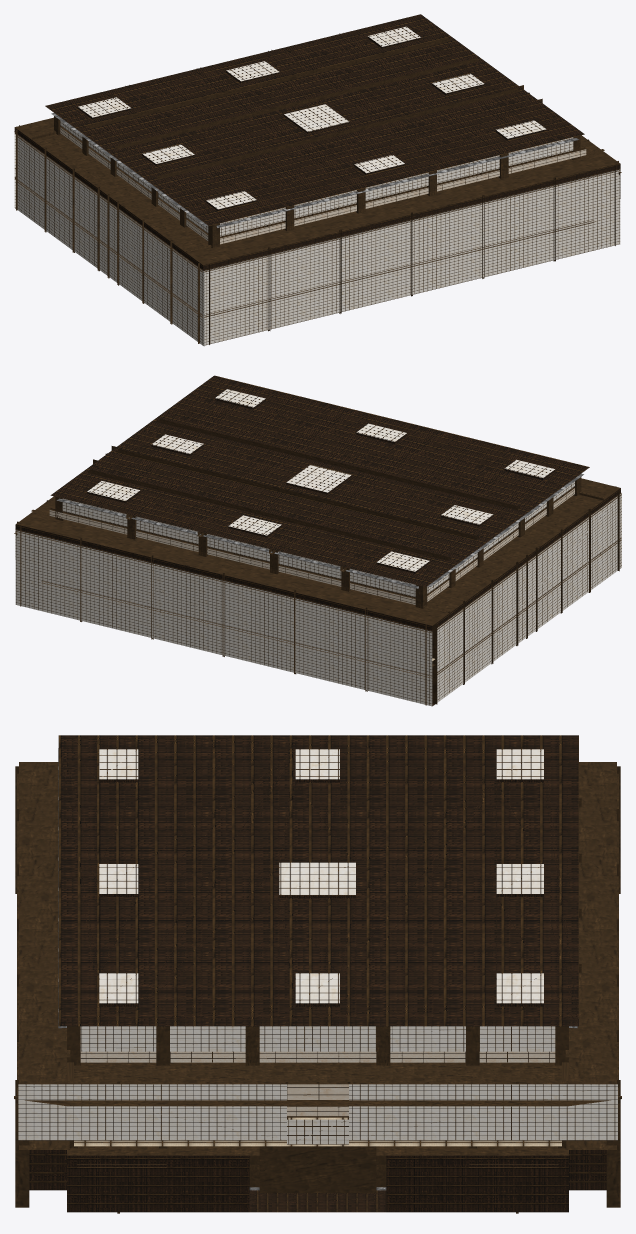
Rendered from DojoRoomModel.fbx.
3 renders of one model, top to bottom at view 1: azimuth 30°, elevation 25°; view 2: azimuth 150°, elevation 25°; view 3: azimuth 270°, elevation 25°, orthographic. The views are drawn at different scales.
Parts seen in each view (by area): view 1: polySurface158, polySurface160, polySurface59, polySurface157, pCube92, pCube90, pCube91; view 2: polySurface158, polySurface160, polySurface59, polySurface157, pCube92, pCube90, pCube91, pCube72; view 3: polySurface158, pCube72, polySurface160, polySurface54.
Part boxes in pixels (<box>): polySurface158: <box>45,14,584,225</box>; polySurface160: <box>14,30,620,345</box>; polySurface59: <box>17,116,219,346</box>; polySurface157: <box>51,113,579,227</box>; pCube92: <box>156,88,519,179</box>; pCube90: <box>87,37,450,128</box>; pCube91: <box>115,58,478,149</box>; polySurface158: <box>50,375,589,586</box>; polySurface160: <box>15,478,620,706</box>; polySurface59: <box>415,477,621,702</box>; polySurface157: <box>56,473,583,588</box>; pCube92: <box>157,418,520,510</box>; pCube90: <box>87,469,450,560</box>; pCube91: <box>116,449,478,540</box>; pCube72: <box>14,443,127,559</box>; polySurface158: <box>58,735,578,1026</box>; pCube72: <box>14,1022,621,1213</box>; polySurface160: <box>15,762,620,1207</box>; polySurface54: <box>249,1187,386,1212</box>.
Size of the model in its own units: 227 by 56.93 by 177.
